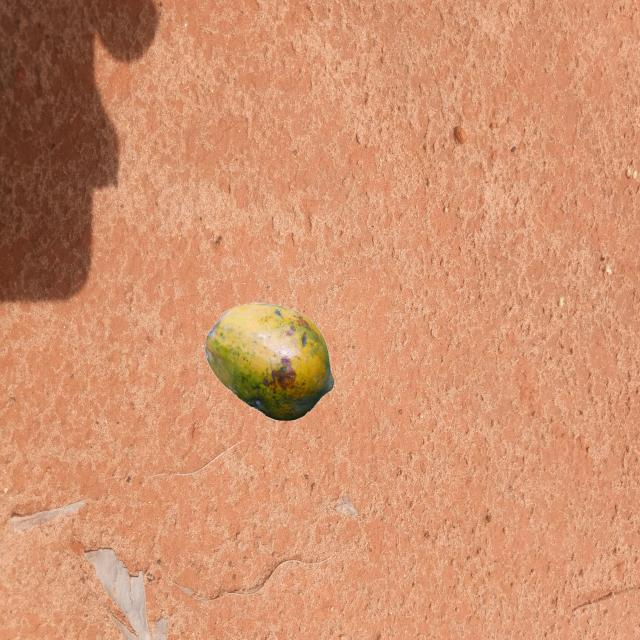Pepaya rippen: (191, 298, 350, 441)
